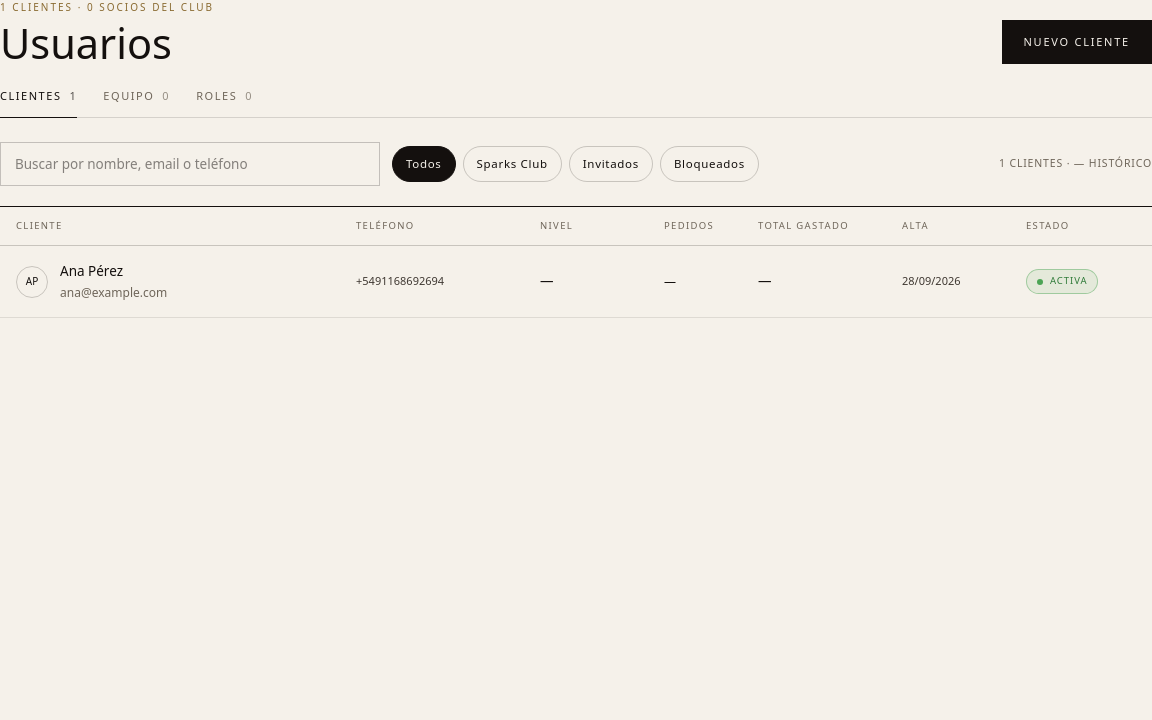
users screen › patches a row without password, tier or notes
Click the button "Ana Pérez" at (32, 282), box [0,246,1151,318]
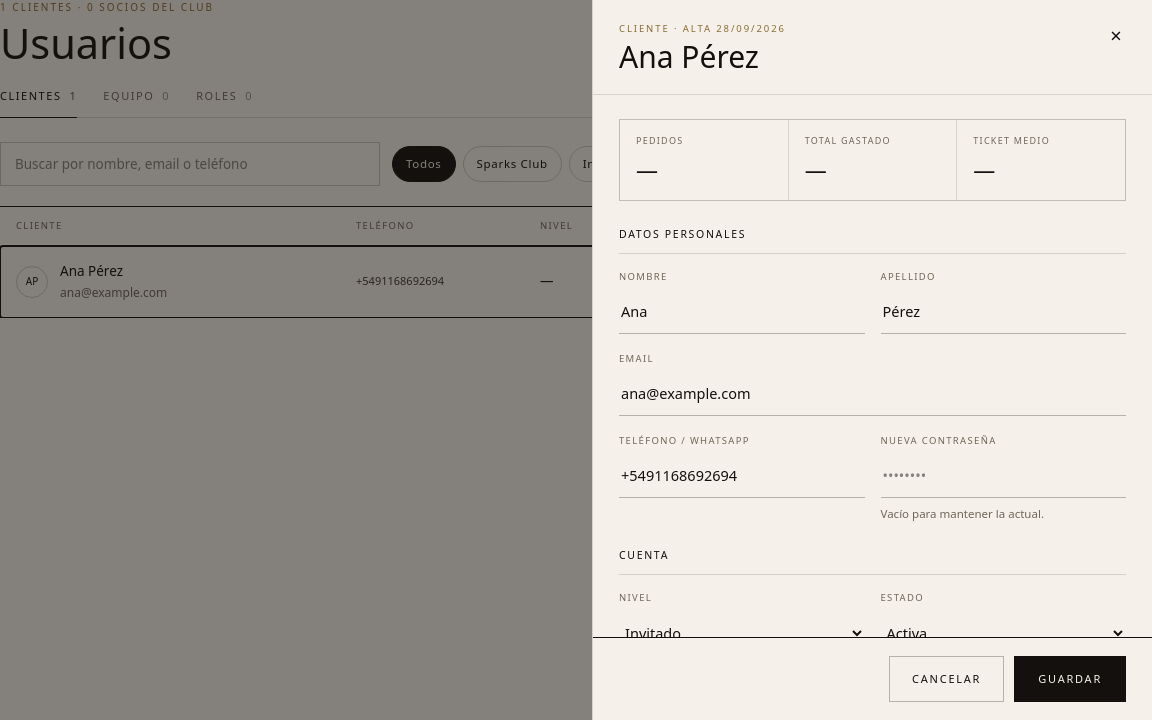
Now the text "Cliente · alta 28/09/2026" is shown, box [619,22,786,36]
Now the text "Ticket medio" is shown, box [973,134,1050,147]
Now the field labelled "Email" holds "ana@example.com", box [619,373,1126,416]
Replace the text in the field labelled "Nombre" with "Lucía" at (742, 312), box [619,291,864,334]
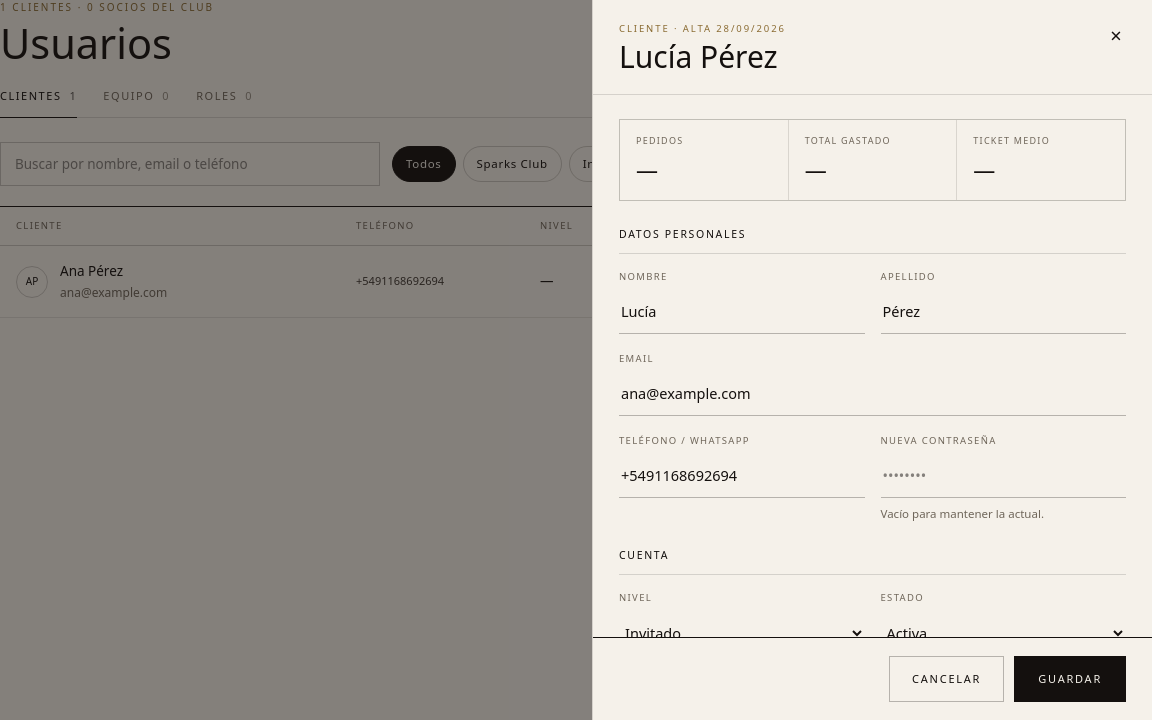
Click the button "Guardar" at (1070, 679), box [1014,656,1126,702]
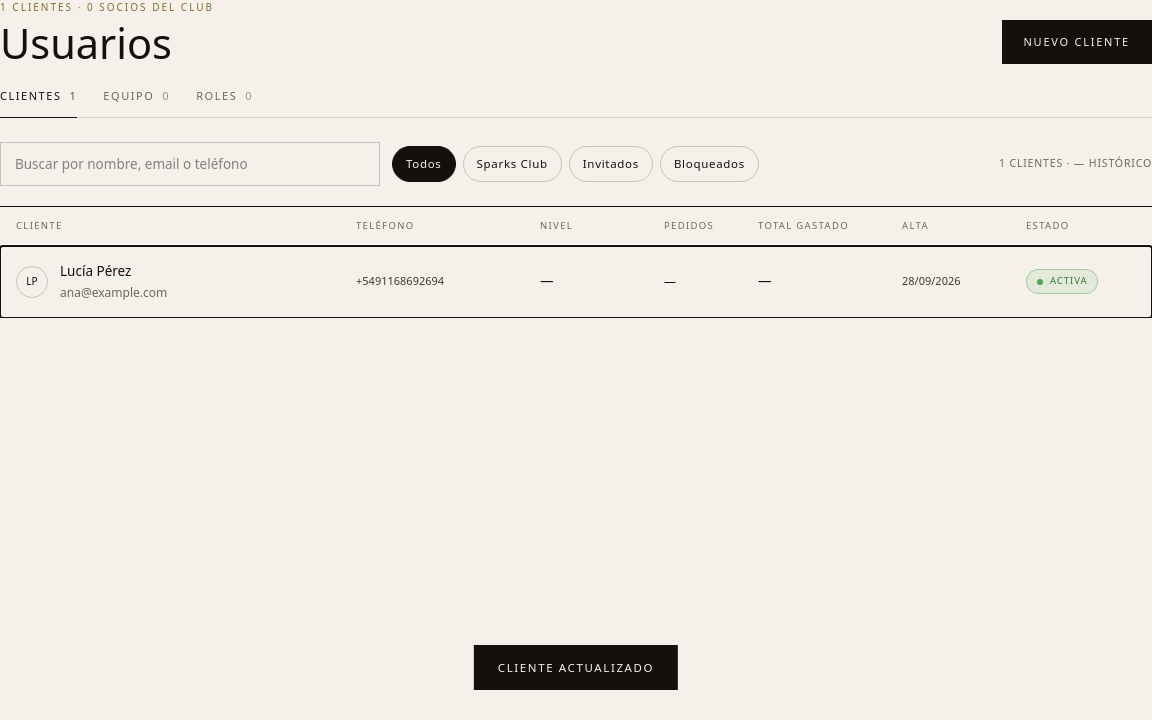
Now the message "Cliente actualizado" is shown, box [474,645,678,690]
Now the message reads "Cliente actualizado", box [498,660,654,675]
